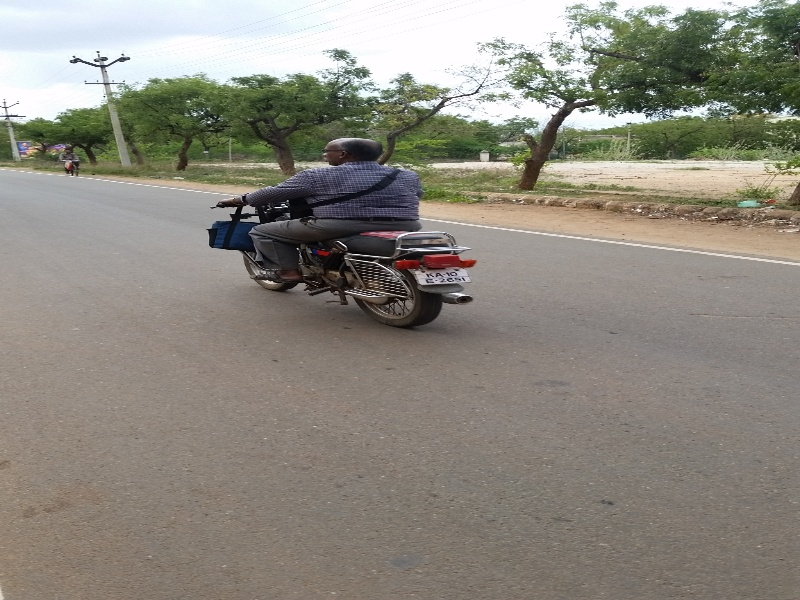biker: (191, 98, 525, 346)
nohelmet: (317, 127, 396, 176)
